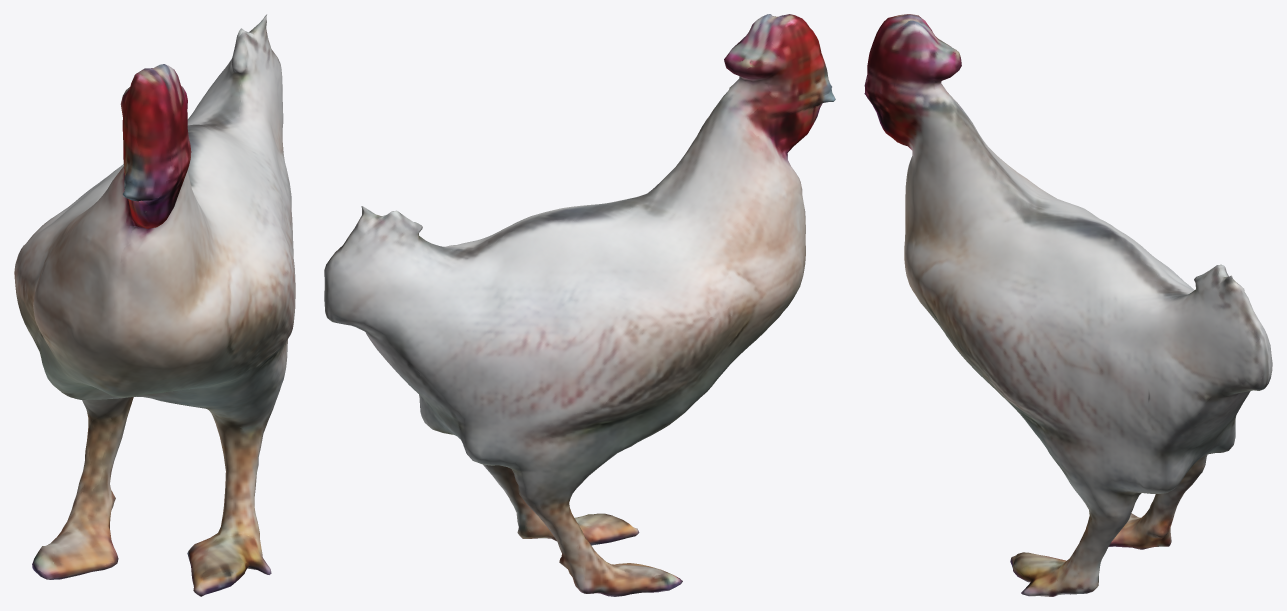
File: adulto.glb
3 renders of one model, left to right at view 1: azimuth 30°, elevation 25°; view 2: azimuth 150°, elevation 25°; view 3: azimuth 270°, elevation 25°, orthographic. The views are drawn at different scales.
Visible parts, largest first — view 1: mesh; view 2: mesh; view 3: mesh.
Boxes of the visible parts, x1,y1,x2,y2 form: mesh: (14,14,295,596); mesh: (324,14,835,596); mesh: (864,14,1272,596).
Bounding box in the file's own units: 1.06 × 1.56 × 1.14.
1 material, 1 textured.
